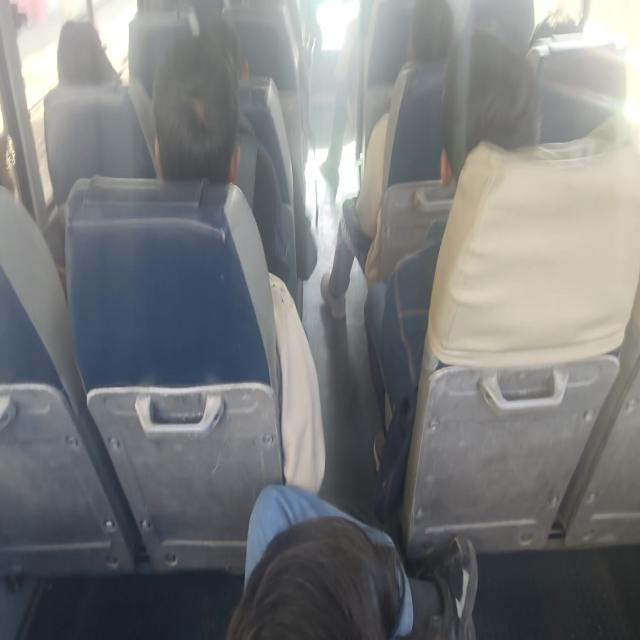person: (224, 513, 422, 640), (428, 46, 543, 190), (143, 42, 246, 202), (42, 15, 123, 100), (186, 9, 258, 86), (522, 2, 586, 56), (414, 0, 457, 69), (0, 126, 24, 206)
